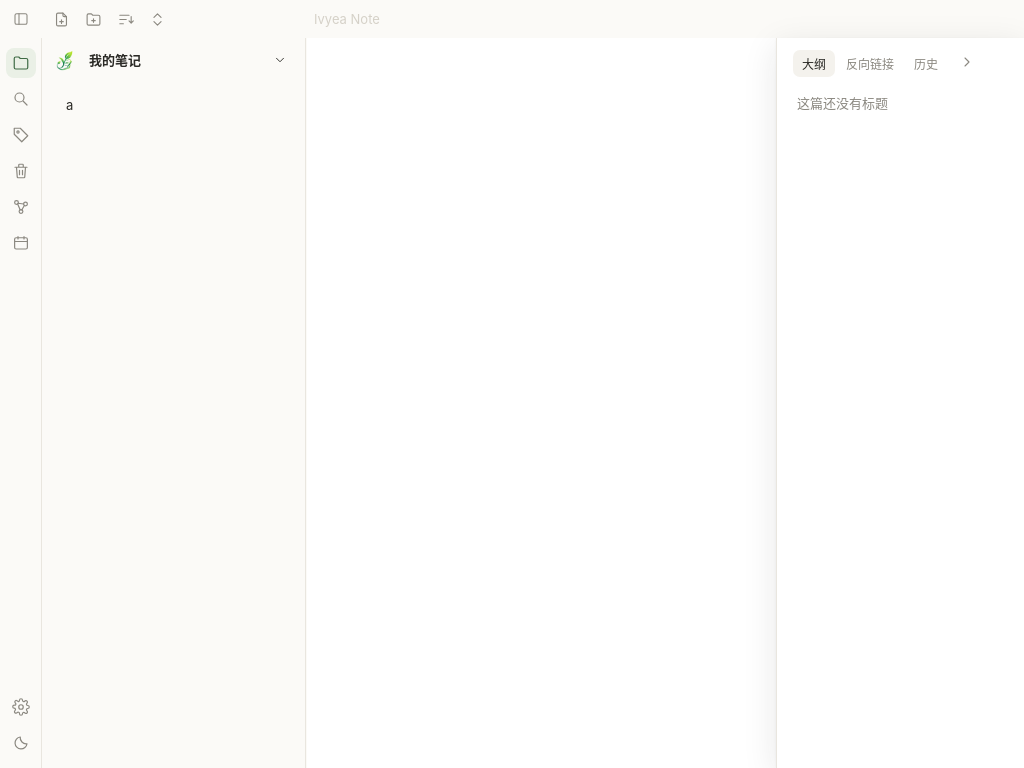
Test: 右键上下文菜单（E3） › Esc 关闭菜单
Right-click the element with class "ft-file".
right_click(70, 105)  # box [66, 97, 73, 113]
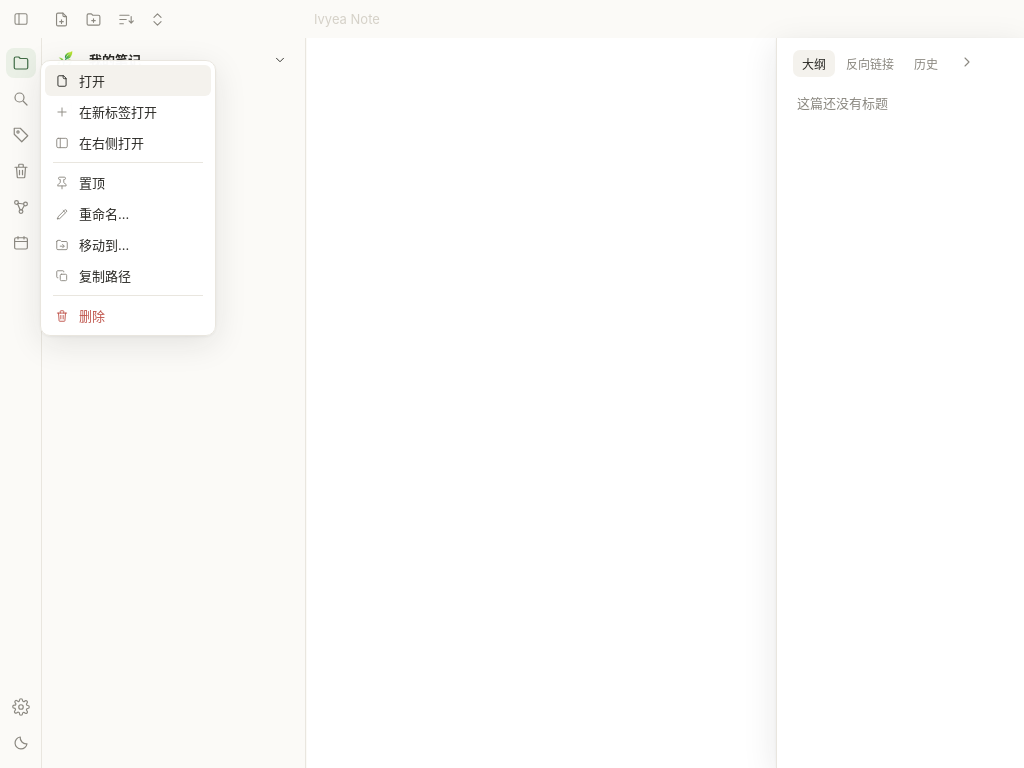
expect the menu is shown: met, box [40, 60, 216, 336]
Press Escape
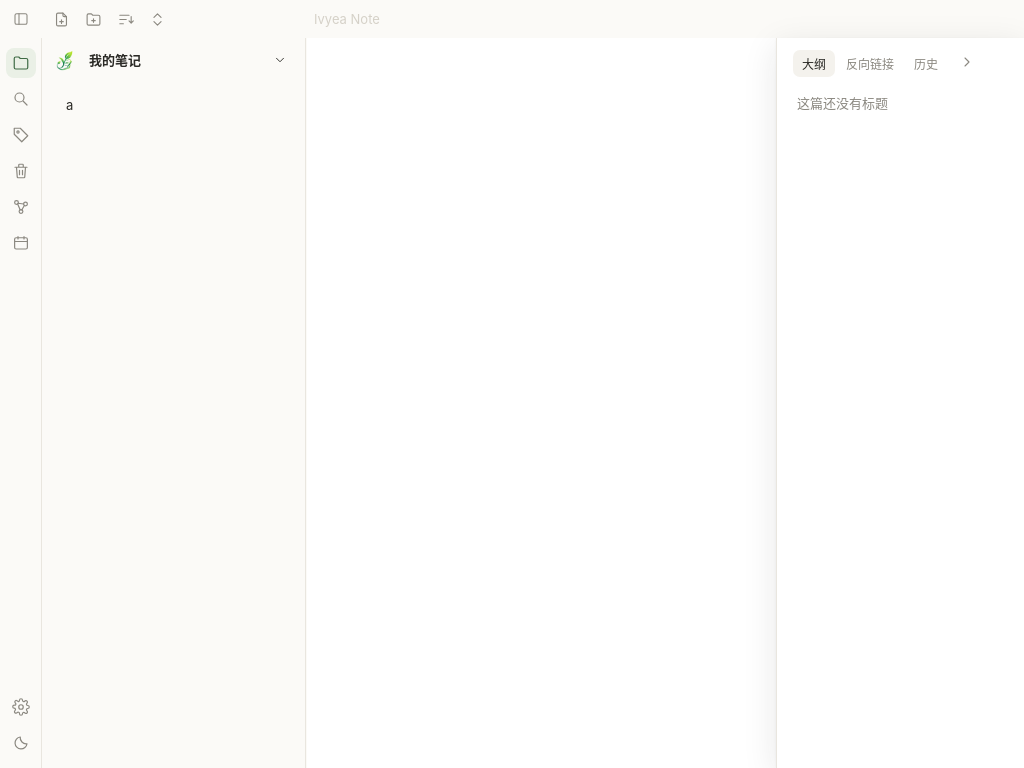
expect the menu is gone: met
